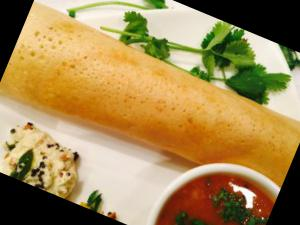dosa: (1, 1, 300, 186)
